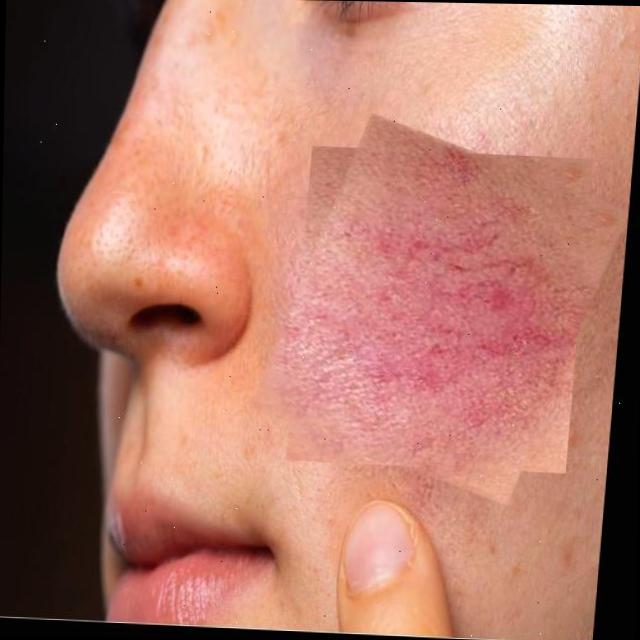redness: (280, 143, 594, 472)
